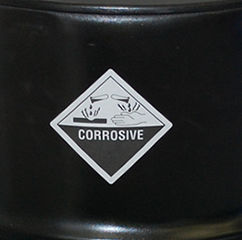Corrosive: (49, 68, 173, 184)
